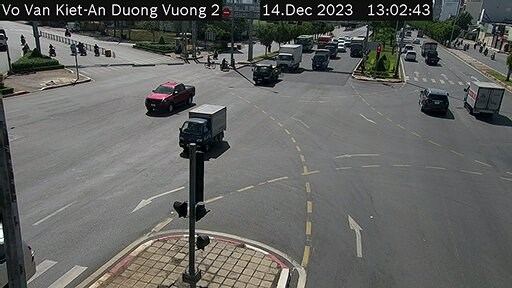car: (143, 75, 189, 112), (413, 86, 449, 118)
truck: (177, 106, 230, 155), (463, 73, 504, 117), (254, 57, 280, 88), (279, 42, 303, 74), (313, 47, 334, 71)
